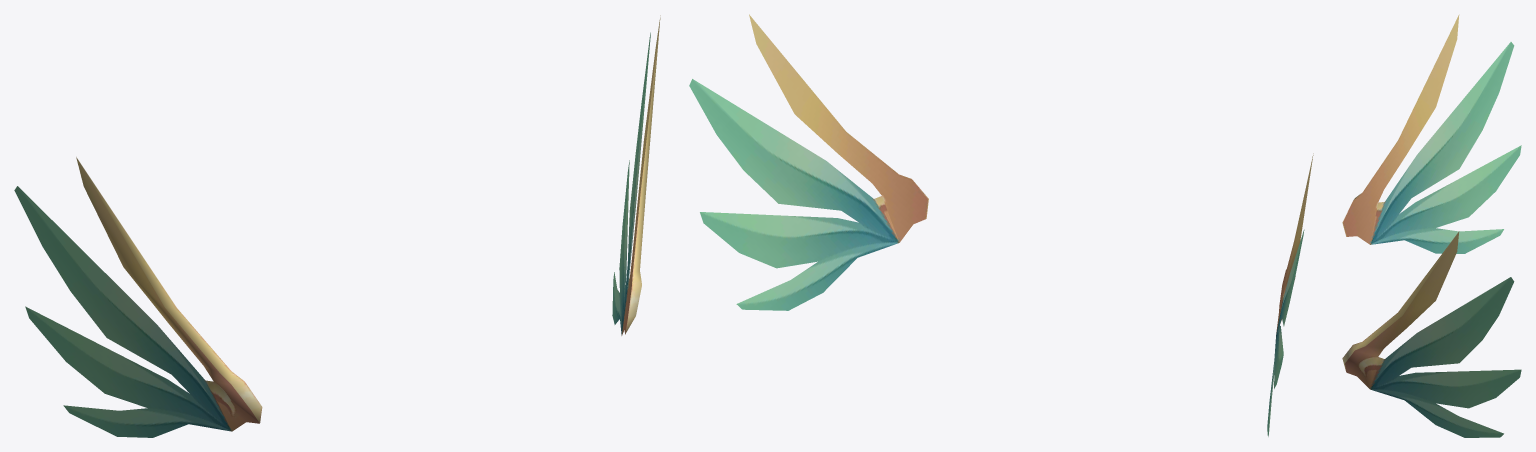
File: helm0030.fbx
3 renders of one model, left to right at view 1: azimuth 30°, elevation 25°; view 2: azimuth 150°, elevation 25°; view 3: azimuth 270°, elevation 25°, orthographic. The views are drawn at different scales.
Visible parts, largest first — view 1: helm0030_m; view 2: helm0030_m; view 3: helm0030_m.
Boxes of the visible parts, x1,y1,x2,y2 form: helm0030_m: (14,15,660,437); helm0030_m: (689,14,1313,436); helm0030_m: (1342,14,1521,437).
Size of the model in its own units: 0.4973 by 0.2195 by 0.1596.
